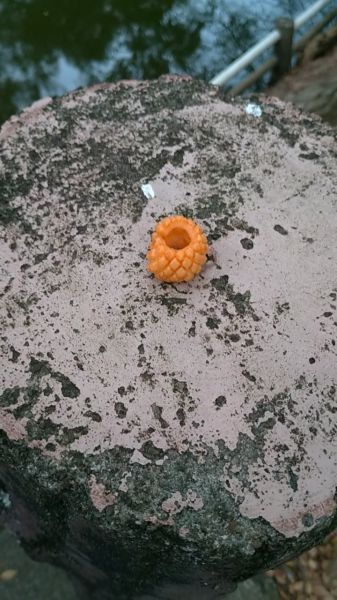eggs: (139, 213, 211, 286)
